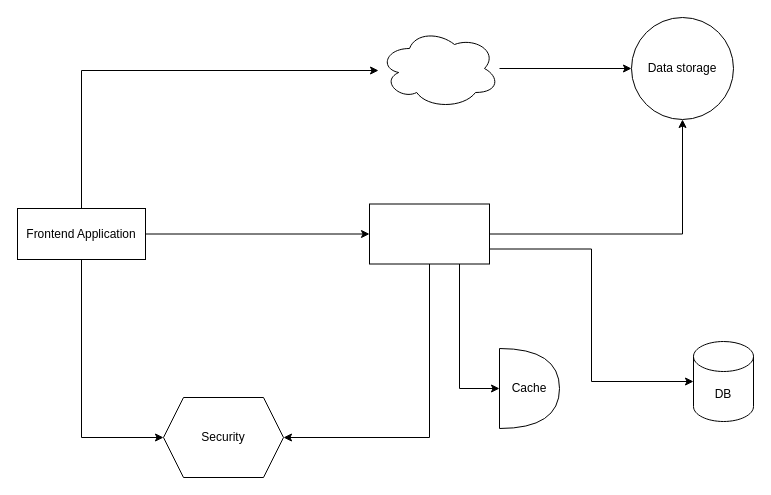
Image size: 771x495. Some labels were removed from this diagram. The shapes that lost their labels are listed below. From the top down, each one's centre as x and y in pixels, then its label:
At point 439,68: "CDN".
At point 429,233: "Backend Application".
